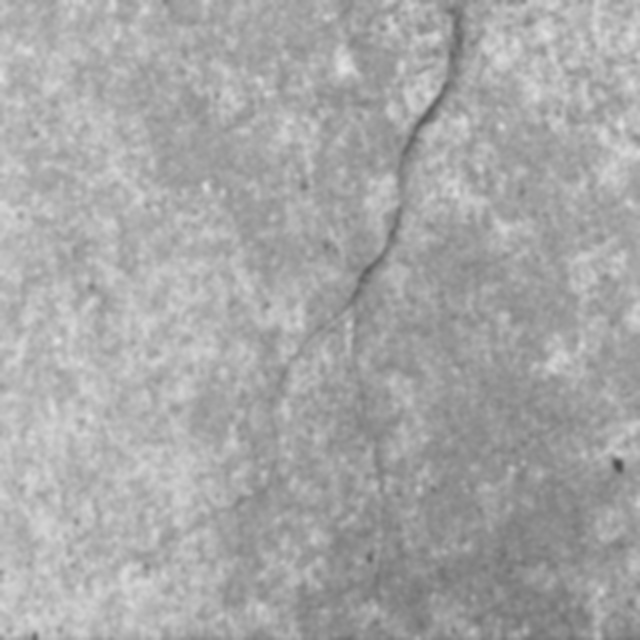SurfaceCrack: (174, 0, 515, 630)
